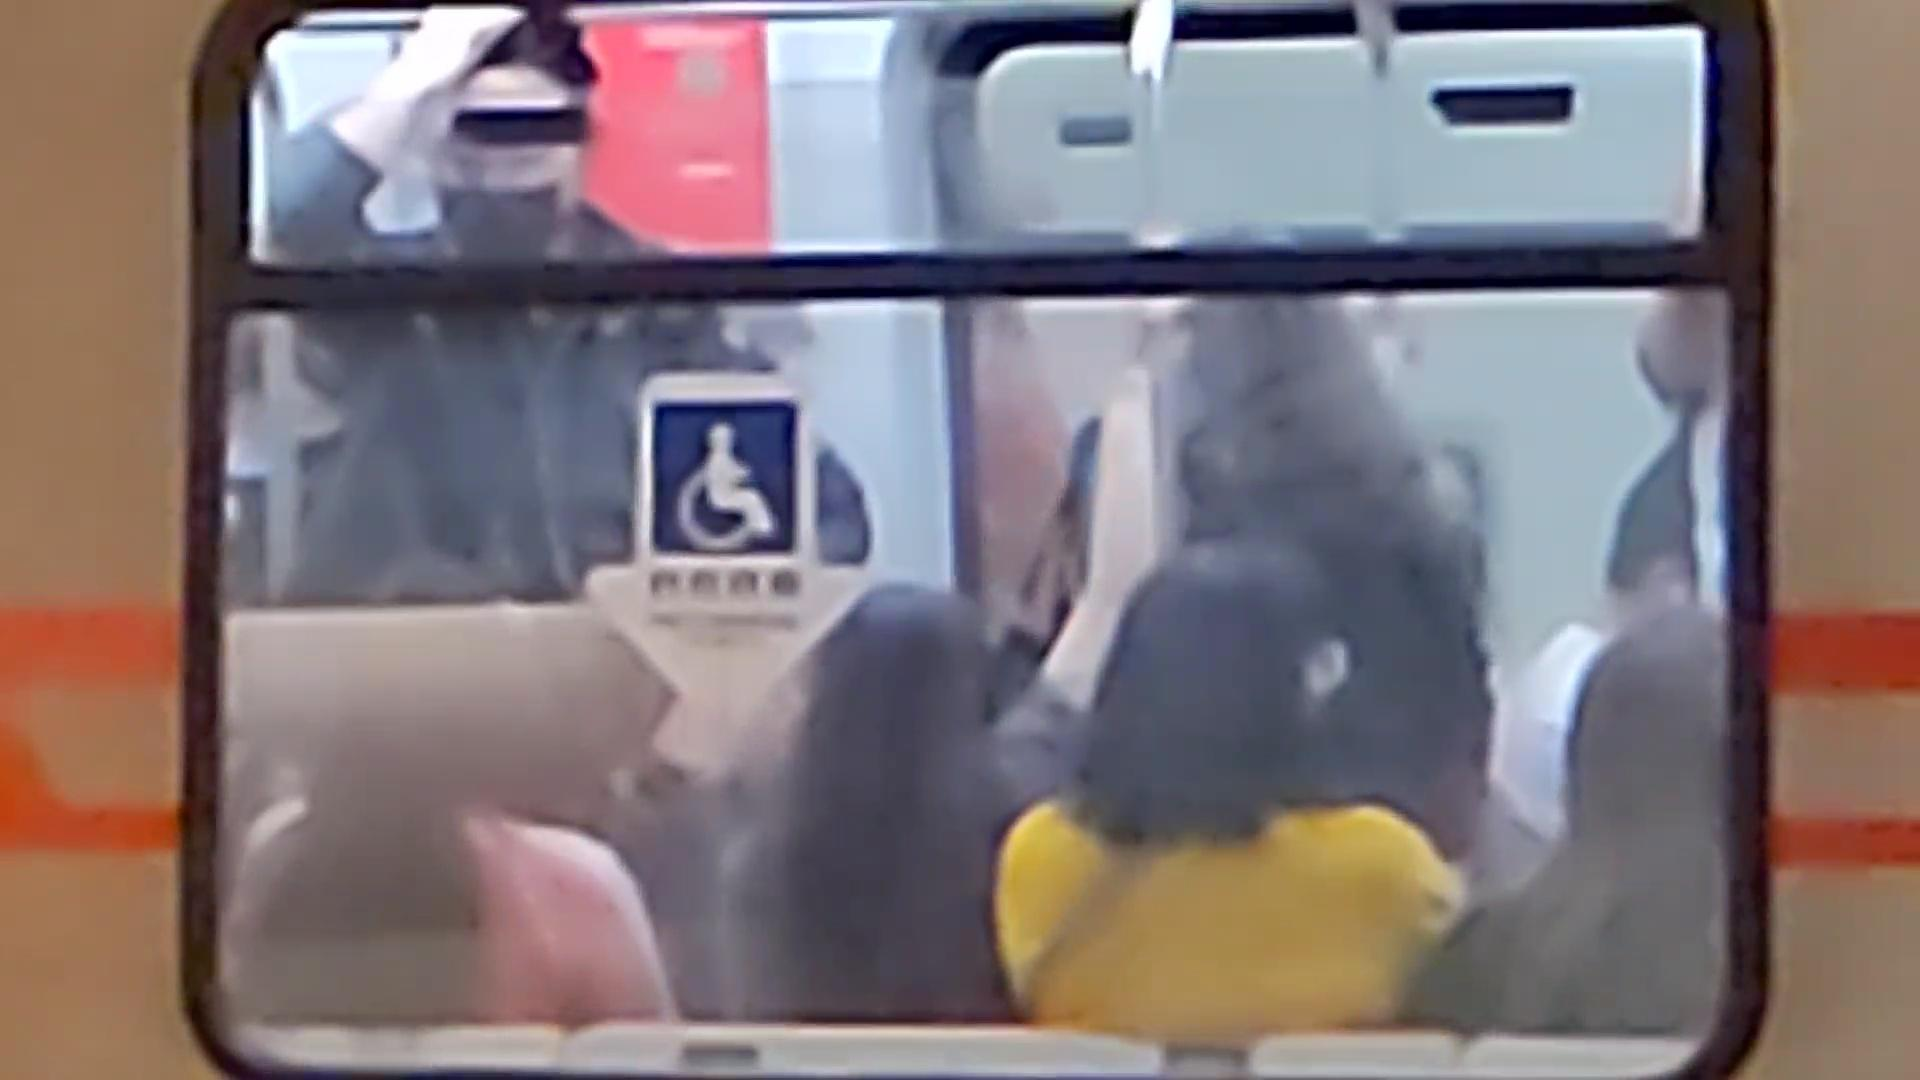handicapped symbol: (673, 417, 778, 560)
